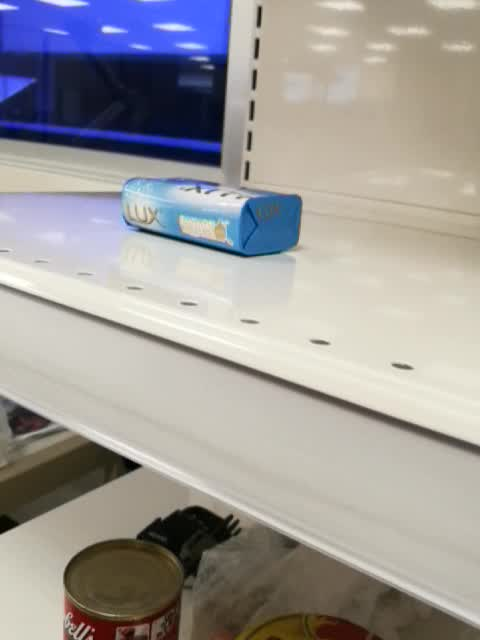soap: (120, 176, 305, 259)
